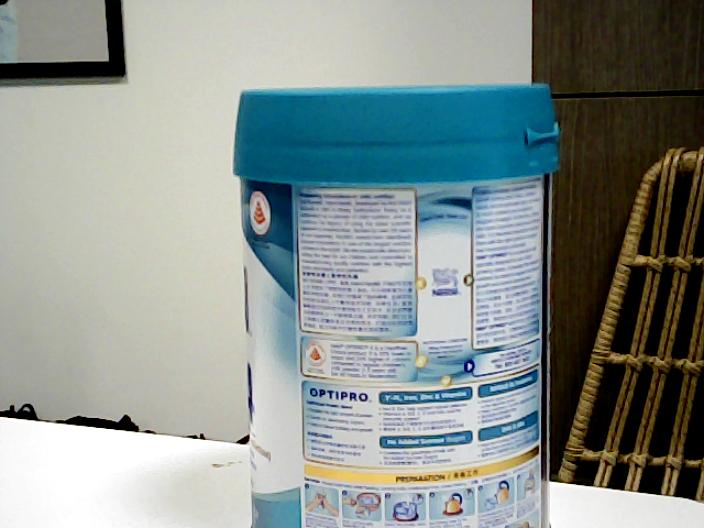Babymilk-powder_800-899g_Halal_Healthy: (230, 80, 562, 528)
